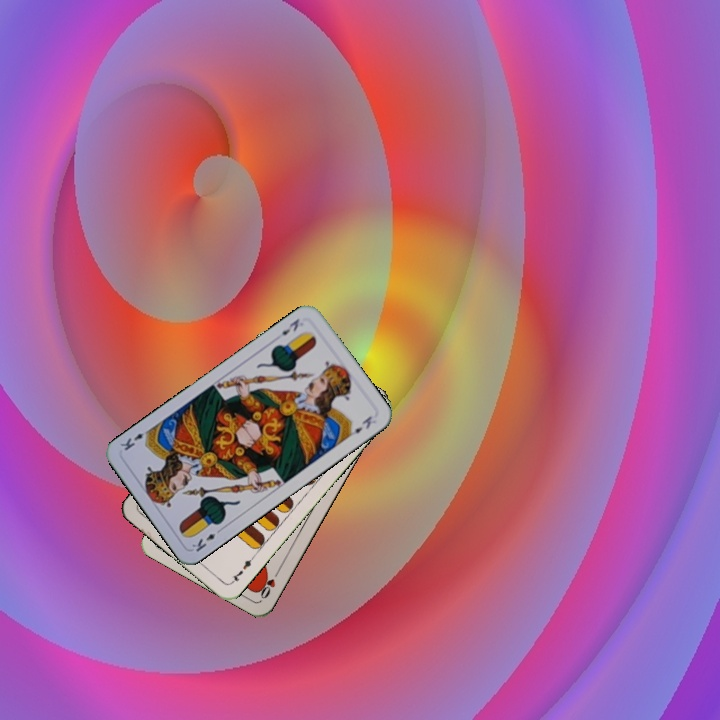E7: (227, 553, 257, 586)
EK: (188, 524, 225, 555), (277, 314, 302, 338)
HO: (255, 565, 282, 601)
